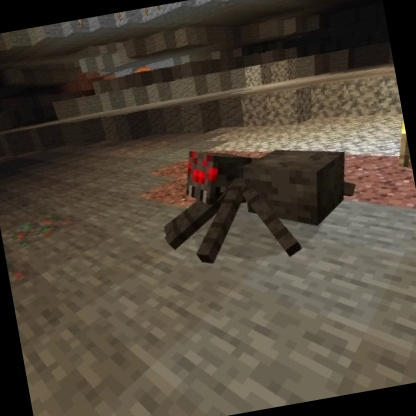spider: (146, 119, 370, 281)
